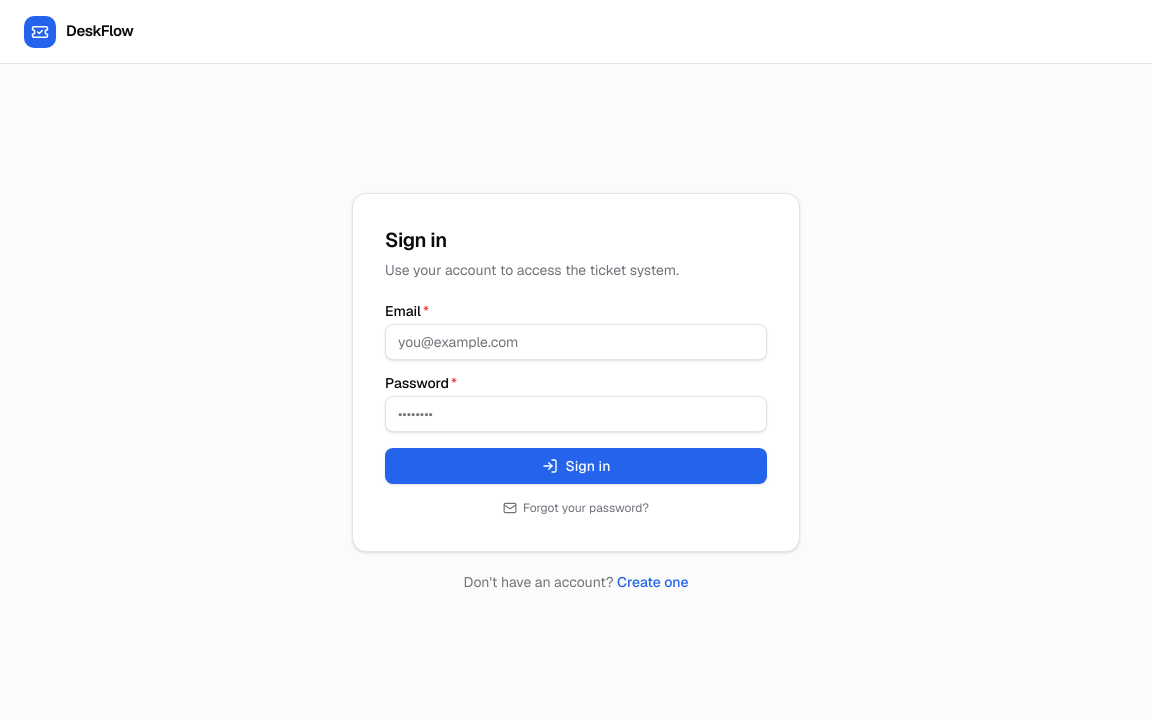
Test case: LoginPage › rejects an invalid email address
Type "not-an-email" into the field labelled "Email*" at (576, 342), box [385,324,767,360]
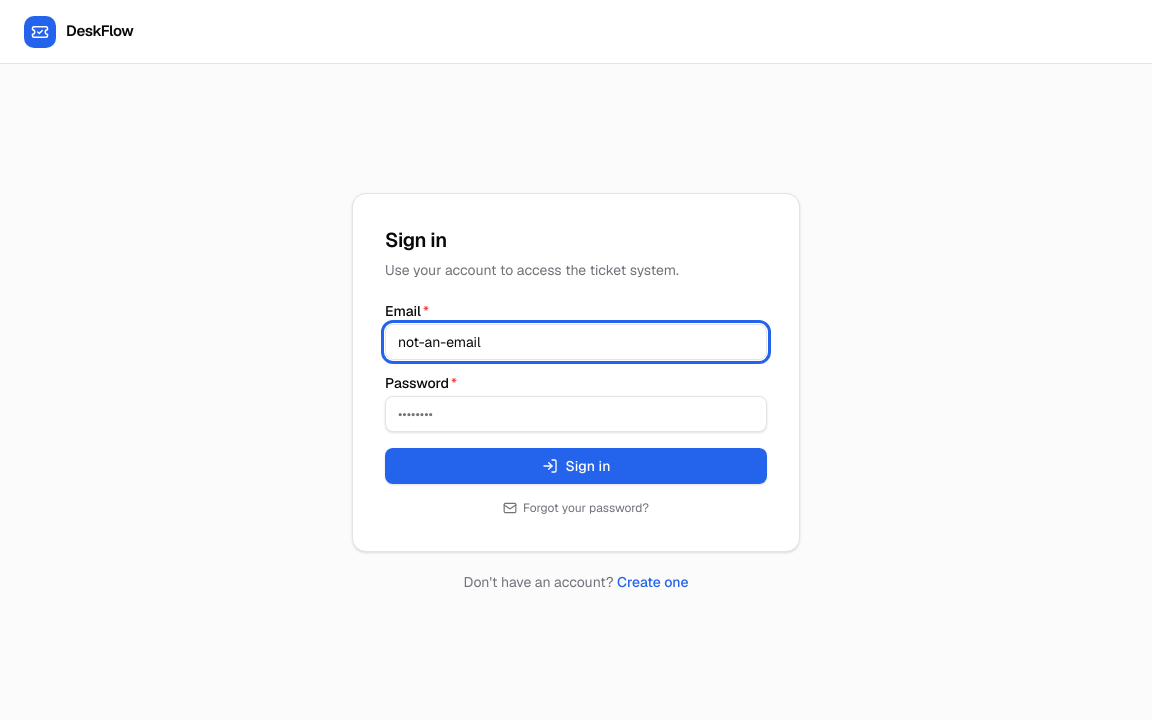
Type "secret123" into the password field labelled "Password*" at (576, 414), box [385,396,767,432]
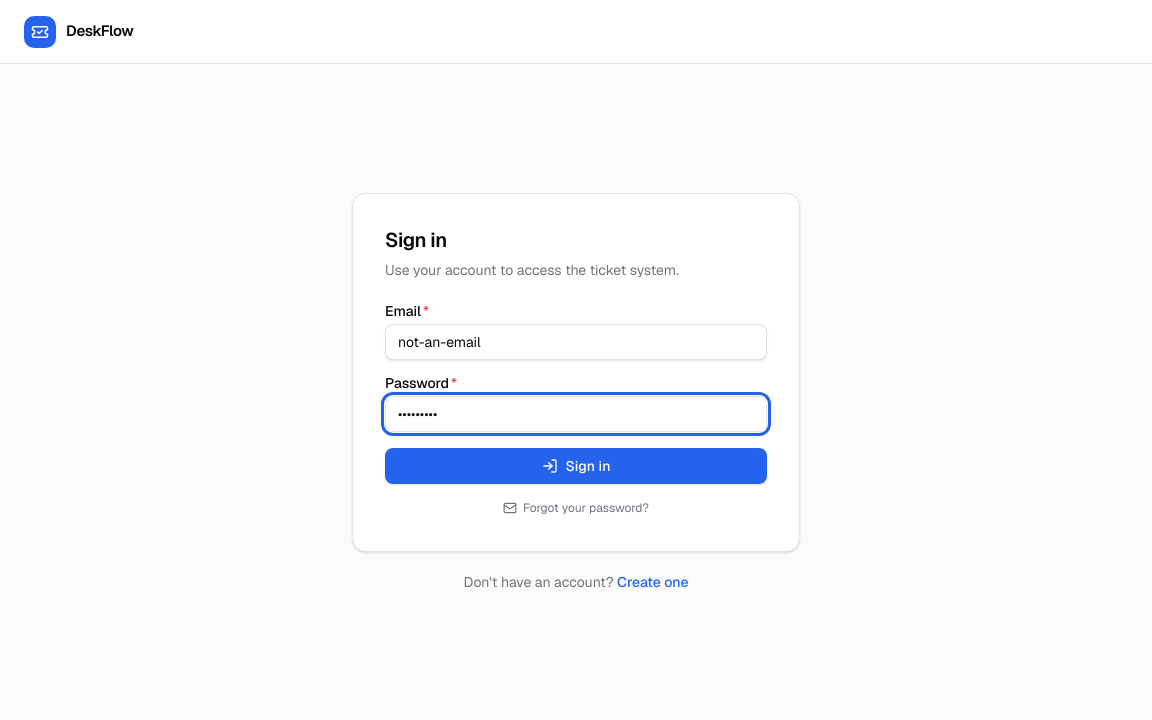
Click the button "Sign in" at (576, 466), box [385,448,767,484]
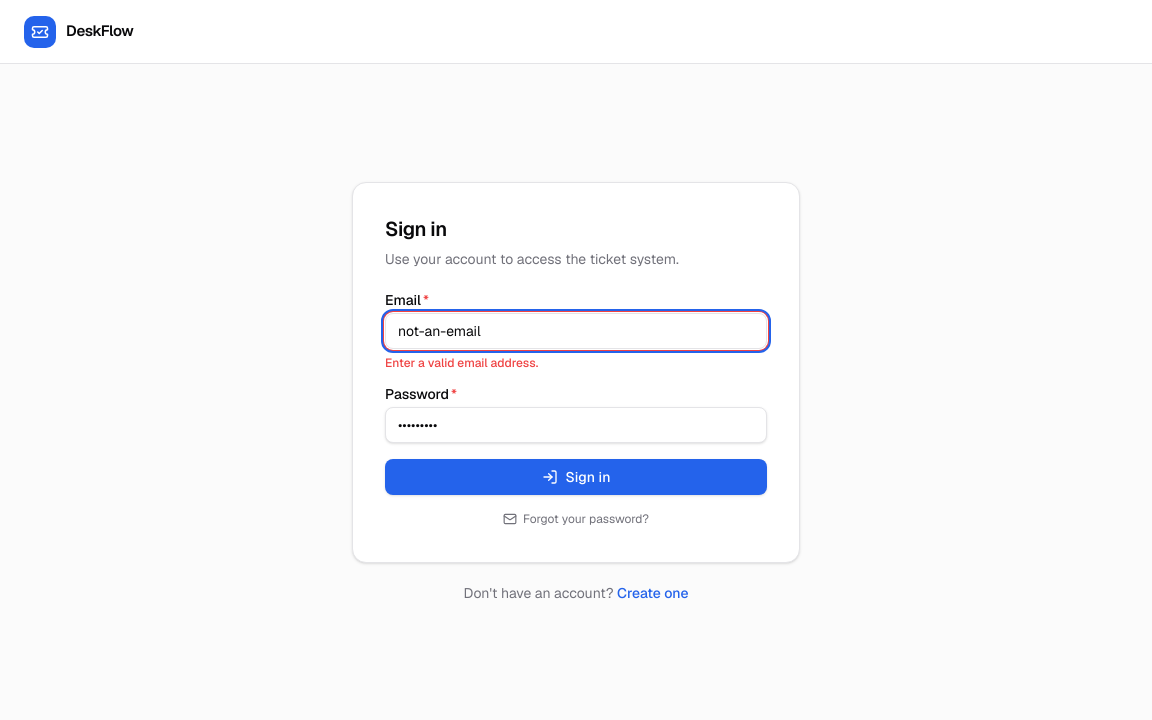
Check: the text "Enter a valid email address." is shown, box [385,354,538,370]
